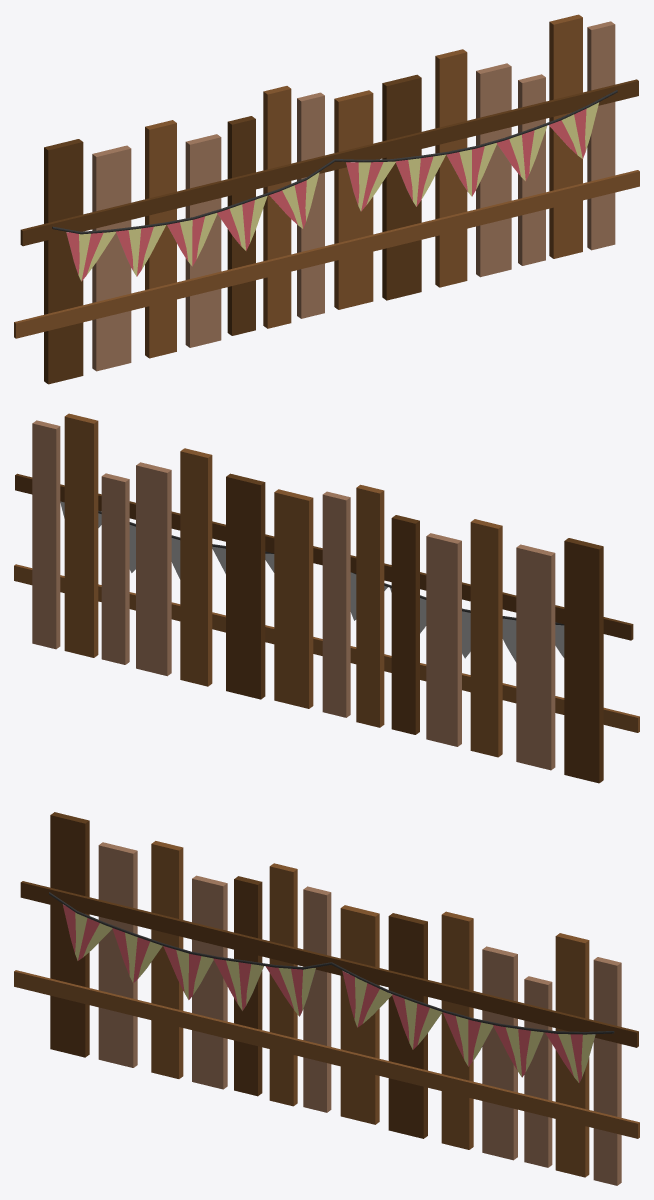
The model's file is border_fence.fbx.
The picture shows the model from 3 angles, top to bottom: view 1: azimuth 30°, elevation 25°; view 2: azimuth 150°, elevation 25°; view 3: azimuth 330°, elevation 25°; orthographic projection.
Parts seen in each view (by area): view 1: bunting_rope2, pCube16, pCube15, pCube1, pCube2, pCube9, pCube8, pCube13, pCube10, pCube3, pCube11, pCube6 (+5 smaller); view 2: pCube1, pCube2, pCube9, pCube8, pCube13, pCube3, pCube10, pCube4, pCube11, pCube6, pCube14, pCube7 (+5 smaller); view 3: bunting_rope2, pCube16, pCube15, pCube1, pCube2, pCube9, pCube8, pCube3, pCube13, pCube10, pCube14, pCube4 (+5 smaller).
Part boxes in pixels (x1=…): bunting_rope2: x1=52, y1=90, x2=617, y2=281; pCube16: x1=14, y1=170, x2=639, y2=338; pCube15: x1=20, y1=79, x2=638, y2=246; pCube1: x1=44, y1=139, x2=83, y2=384; pCube2: x1=92, y1=145, x2=131, y2=371; pCube9: x1=382, y1=74, x2=421, y2=300; pCube8: x1=334, y1=90, x2=373, y2=309; pCube13: x1=549, y1=14, x2=582, y2=258; pCube10: x1=435, y1=49, x2=467, y2=287; pCube3: x1=145, y1=120, x2=176, y2=358; pCube11: x1=476, y1=63, x2=511, y2=277; pCube6: x1=263, y1=86, x2=291, y2=328; pCube1: x1=564, y1=538, x2=603, y2=783; pCube2: x1=516, y1=544, x2=555, y2=770; pCube9: x1=226, y1=473, x2=265, y2=699; pCube8: x1=274, y1=489, x2=313, y2=708; pCube13: x1=64, y1=413, x2=98, y2=657; pCube3: x1=470, y1=519, x2=502, y2=757; pCube10: x1=180, y1=448, x2=212, y2=686; pCube4: x1=426, y1=533, x2=461, y2=746; pCube11: x1=136, y1=462, x2=171, y2=676; pCube6: x1=356, y1=484, x2=384, y2=727; pCube14: x1=32, y1=420, x2=60, y2=649; pCube7: x1=322, y1=491, x2=350, y2=717; bunting_rope2: x1=49, y1=892, x2=614, y2=1082; pCube16: x1=14, y1=970, x2=639, y2=1138; pCube15: x1=20, y1=881, x2=638, y2=1047; pCube1: x1=50, y1=812, x2=89, y2=1057; pCube2: x1=98, y1=842, x2=137, y2=1067; pCube9: x1=388, y1=913, x2=427, y2=1138; pCube8: x1=340, y1=905, x2=379, y2=1124; pCube3: x1=151, y1=841, x2=183, y2=1078; pCube13: x1=555, y1=933, x2=589, y2=1177; pCube10: x1=441, y1=911, x2=473, y2=1149; pCube14: x1=593, y1=957, x2=621, y2=1185; pCube4: x1=192, y1=875, x2=227, y2=1089.
Size of the model in its own units: 42.89 by 15.53 by 0.8819.
